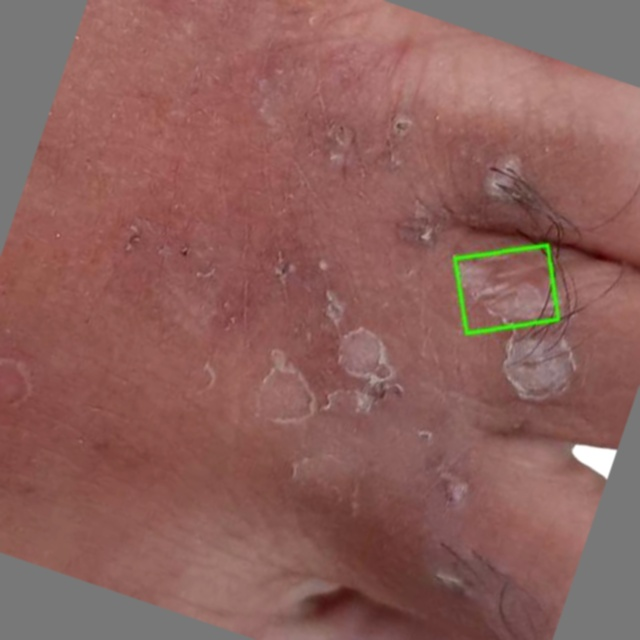Eczema: (454, 244, 558, 333)
